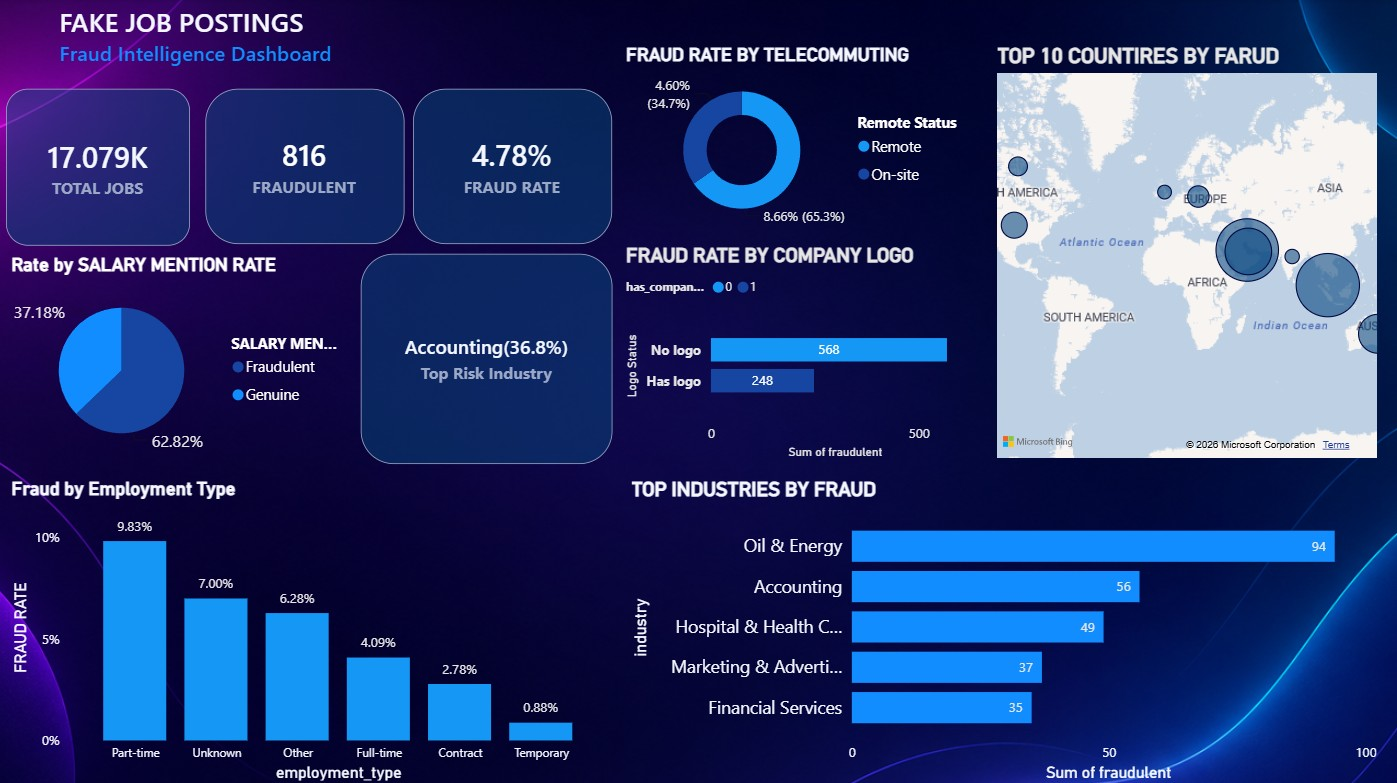

The dashboard page shown, as its layout file describes it:
{"tool":"powerbi","page":{"name":"Page 1","canvas":[1280,720],"ordinal":0},"visuals":[{"type":"textbox","box":[10,0,438.3,83.3],"z":0},{"type":"cardVisual","fields":{"Data":["Count(fake_job_postings_CLEANED.job_id)"]},"box":[10,83.3,168.3,143.3],"z":1000},{"type":"cardVisual","fields":{"Data":["Sum(fake_job_postings_CLEANED.fraudulent)"]},"box":[191.7,83.3,181.7,141.7],"z":2000},{"type":"cardVisual","fields":{"Data":["fake_job_postings_CLEANED.FRAUD RATE"]},"box":[381.7,83.3,181.7,141.7],"z":3000},{"type":"cardVisual","fields":{"Data":["fake_job_postings_CLEANED.Top Fraud Industry"]},"box":[333.3,233.3,230,191.7],"z":4000},{"type":"clusteredBarChart","title":"TOP INDUSTRIES BY FRAUD","fields":{"Category":["fake_job_postings_CLEANED.industry"],"Y":["Sum(fake_job_postings_CLEANED.fraudulent)"]},"box":[576.7,438.3,690,281.7],"z":5000},{"type":"donutChart","title":"FRAUD RATE BY TELECOMMUTING","fields":{"Category":["fake_job_postings_CLEANED.Remote Status"],"Y":["fake_job_postings_CLEANED.FRAUD RATE"]},"box":[571.7,41.7,325,175],"z":6000},{"type":"clusteredColumnChart","title":"Fraud by Employment Type","fields":{"Category":["fake_job_postings_CLEANED.employment_type"],"Y":["fake_job_postings_CLEANED.FRAUD RATE"]},"box":[10,438.3,553.3,281.7],"z":7000},{"type":"pieChart","fields":{"Category":["fake_job_postings_CLEANED.fraud_label"],"Y":["fake_job_postings_CLEANED.Rate"]},"box":[10,233.3,311.7,193.3],"z":8000},{"type":"map","title":"TOP 10 COUNTIRES BY FARUD","fields":{"Category":["fake_job_postings_CLEANED.Country"],"Size":["fake_job_postings_CLEANED.FRAUD RATE"]},"box":[910,41.7,356.7,383.3],"z":9000},{"type":"barChart","title":"FRAUD RATE BY COMPANY LOGO","fields":{"Category":["fake_job_postings_CLEANED.Logo Status"],"Y":["Sum(fake_job_postings_CLEANED.fraudulent)"],"Series":["fake_job_postings_CLEANED.has_company_logo"]},"box":[571.7,225,325,200],"z":10000}]}

Visuals, with their boxes in screenshot pixels (x1, y1, x2, y2), scaled from the page's 1280x720 canvas onto the 1397x783 screenshot:
textbox: bbox=(11, 0, 489, 91)
cardVisual - Count(fake_job_postings_CLEANED.job_id): bbox=(11, 91, 195, 246)
cardVisual - Sum(fake_job_postings_CLEANED.fraudulent): bbox=(209, 91, 408, 245)
cardVisual - fake_job_postings_CLEANED.FRAUD RATE: bbox=(417, 91, 615, 245)
cardVisual - fake_job_postings_CLEANED.Top Fraud Industry: bbox=(364, 254, 615, 462)
"TOP INDUSTRIES BY FRAUD" clusteredBarChart: bbox=(629, 477, 1382, 782)
"FRAUD RATE BY TELECOMMUTING" donutChart: bbox=(624, 45, 979, 236)
"Fraud by Employment Type" clusteredColumnChart: bbox=(11, 477, 615, 782)
pieChart - fake_job_postings_CLEANED.fraud_label x fake_job_postings_CLEANED.Rate: bbox=(11, 254, 351, 464)
"TOP 10 COUNTIRES BY FARUD" map: bbox=(993, 45, 1382, 462)
"FRAUD RATE BY COMPANY LOGO" barChart: bbox=(624, 245, 979, 462)
